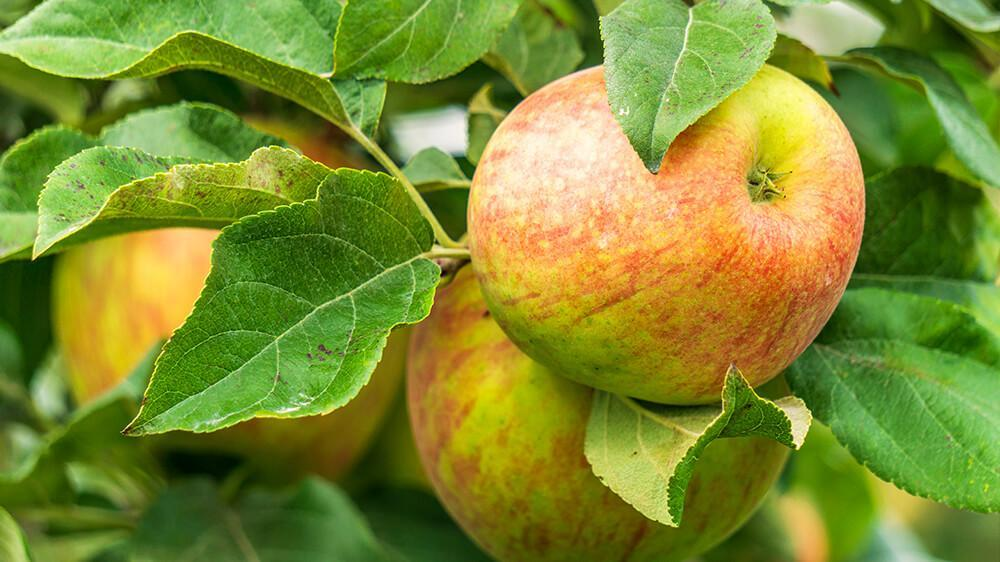apple: (467, 47, 864, 391), (401, 249, 798, 560)
